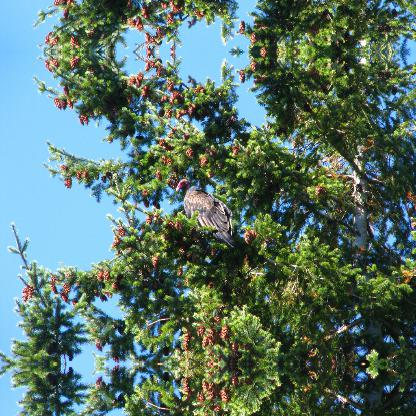Bird: (172, 176, 236, 246)
